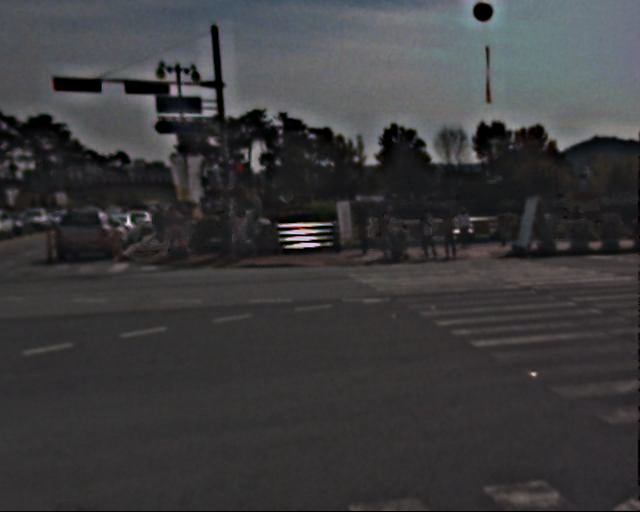person: (377, 203, 402, 265), (233, 207, 255, 261), (152, 204, 186, 237), (420, 209, 441, 260), (443, 210, 464, 260), (360, 208, 379, 255), (460, 203, 478, 246)
